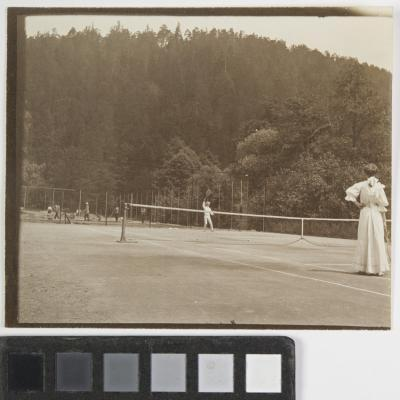photos_negatives: (3, 8, 388, 328)
